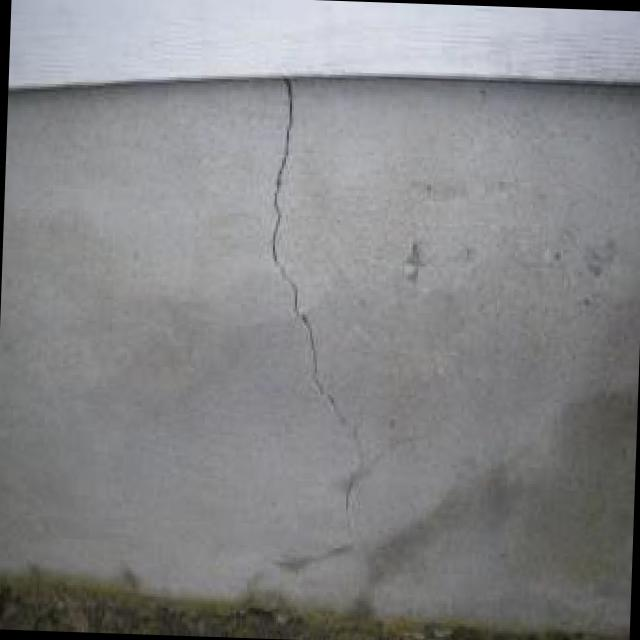crack: (271, 71, 339, 423)
